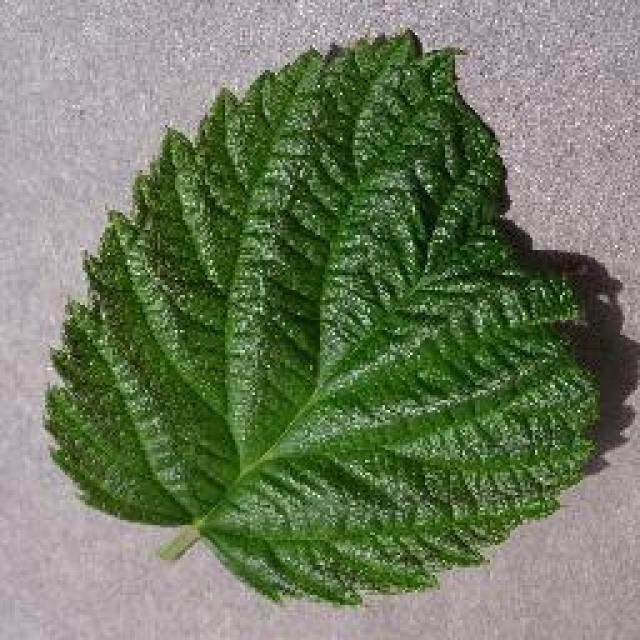Ras_healthy: (91, 96, 513, 554)
